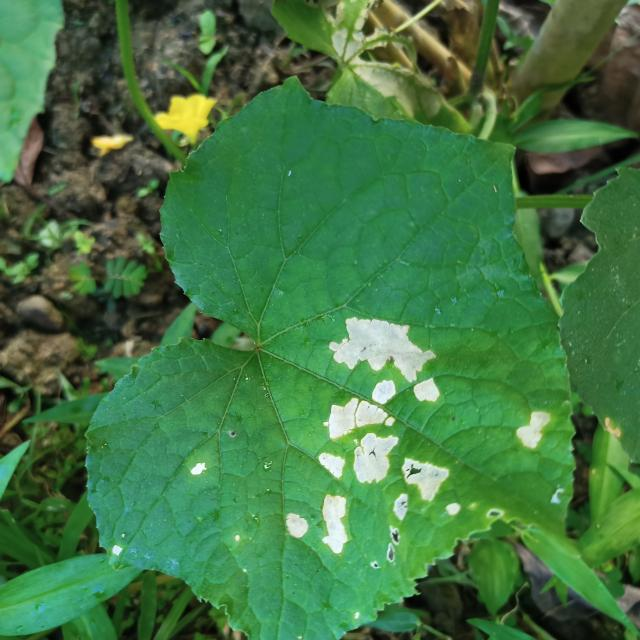disease_cucumber: (285, 308, 451, 570), (506, 404, 554, 461), (183, 456, 212, 482)
